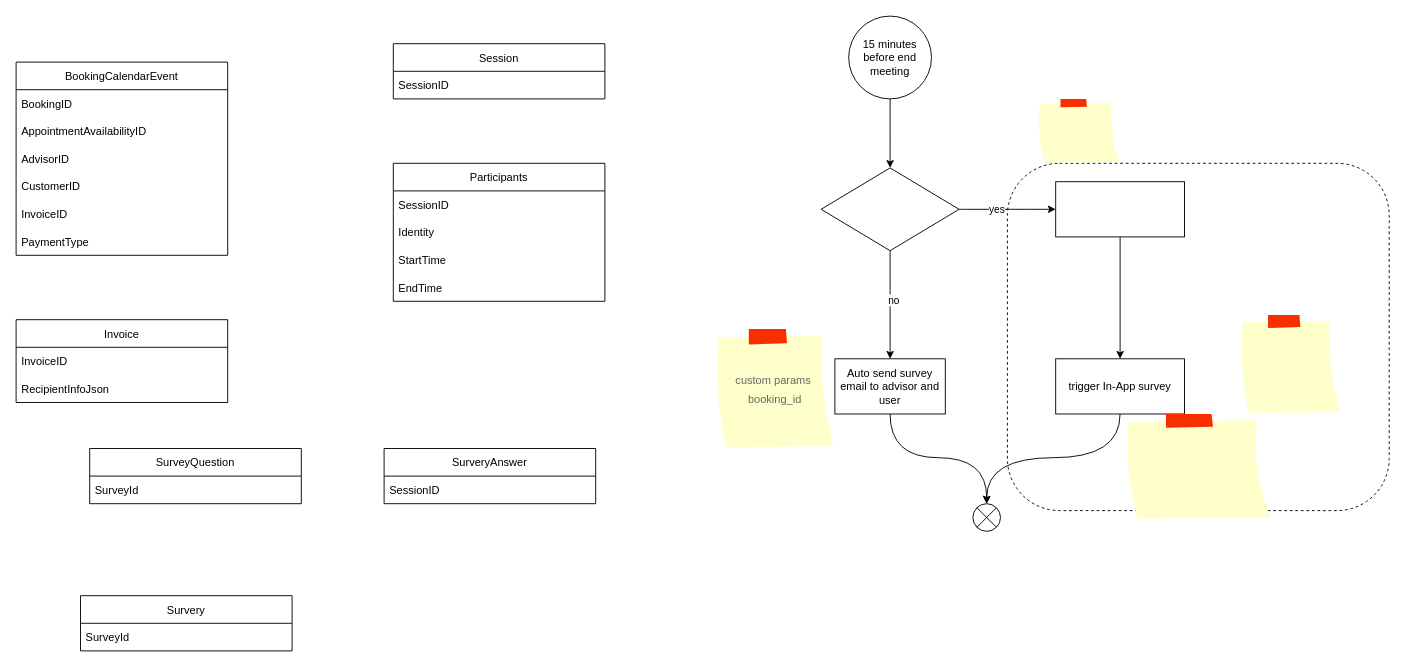
This 1406x667 diagram has some shape labels left out. Each missing label, with the centre of its shape:
"custom params booking_id session_id" goes at point 1290,364.
"embedded script in video FE, trigger base on condition (url)" goes at point 1198,466.
"Future" goes at point 1078,130.
"is Wisory video" goes at point 889,209.
"wait until session end" goes at point 1119,209.
